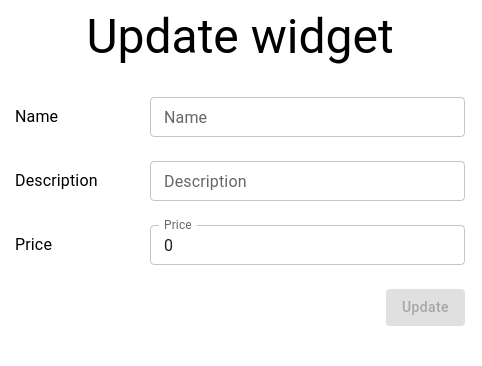
Test case: UpdateWidget › checks if widget already exists on name change
The image size is (482, 366).
Type "Widget1" into the field labelled "Name" at (308, 117), box [150,97,465,137]
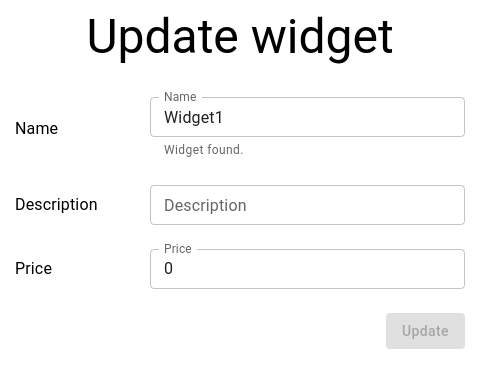
expect the text "Widget found." is shown: met, box [164,143,244,157]
